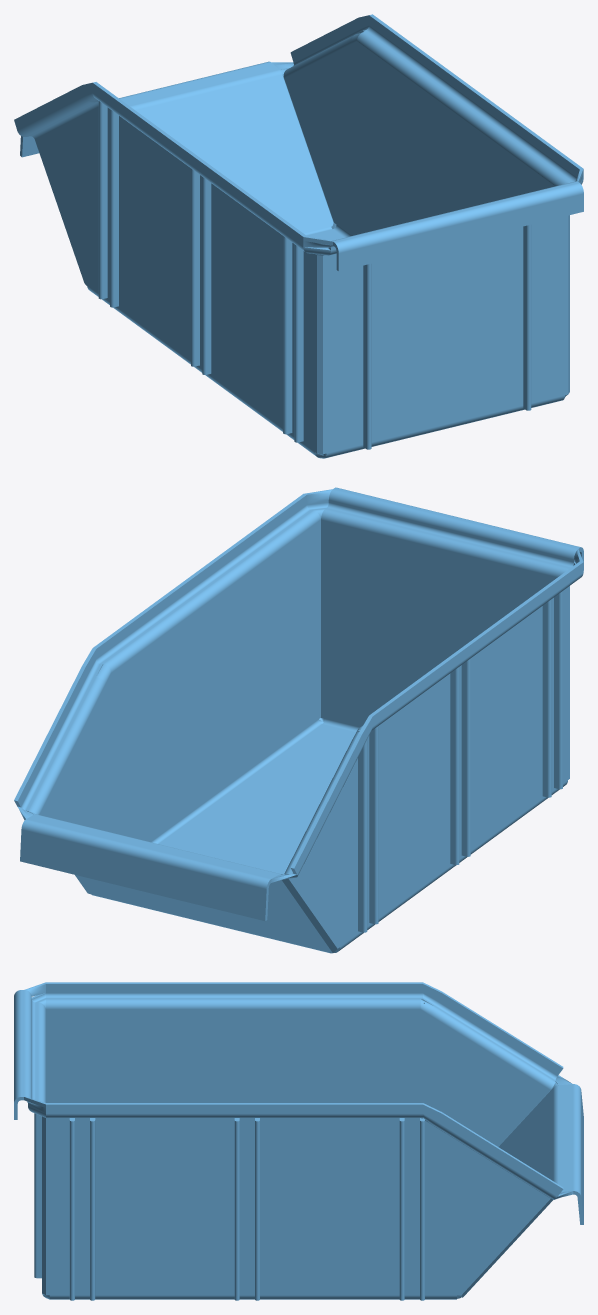
Rendered from BacMedium.fbx.
The picture shows the model from 3 angles, top to bottom: view 1: azimuth 30°, elevation 25°; view 2: azimuth 150°, elevation 25°; view 3: azimuth 270°, elevation 25°; orthographic projection. The views are drawn at different scales.
Visible parts, largest first — view 1: BacMedium; view 2: BacMedium; view 3: BacMedium.
Part boxes in pixels (bbox=[...]): BacMedium: bbox=[14, 14, 583, 458]; BacMedium: bbox=[14, 487, 583, 953]; BacMedium: bbox=[14, 982, 583, 1300].
Bounding box in the file's own units: 11.4 × 8.85 × 22.47.
